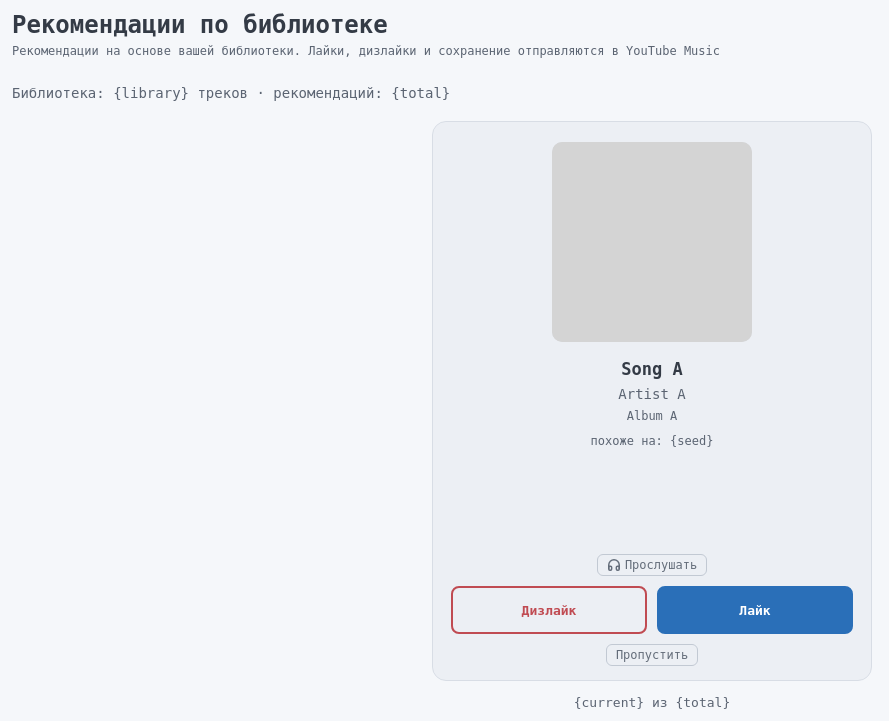
RecommendScreen › «Дизлайк»: POST /api/recommend/dislike; «Пропустить» — без запроса
Check: the text "Song A" is shown, box top-left (621, 359), bottom-right (683, 379)
Пропуск без обращения к аккаунту.
Click the button "Пропустить" at (652, 655), box top-left (606, 644), bottom-right (698, 666)
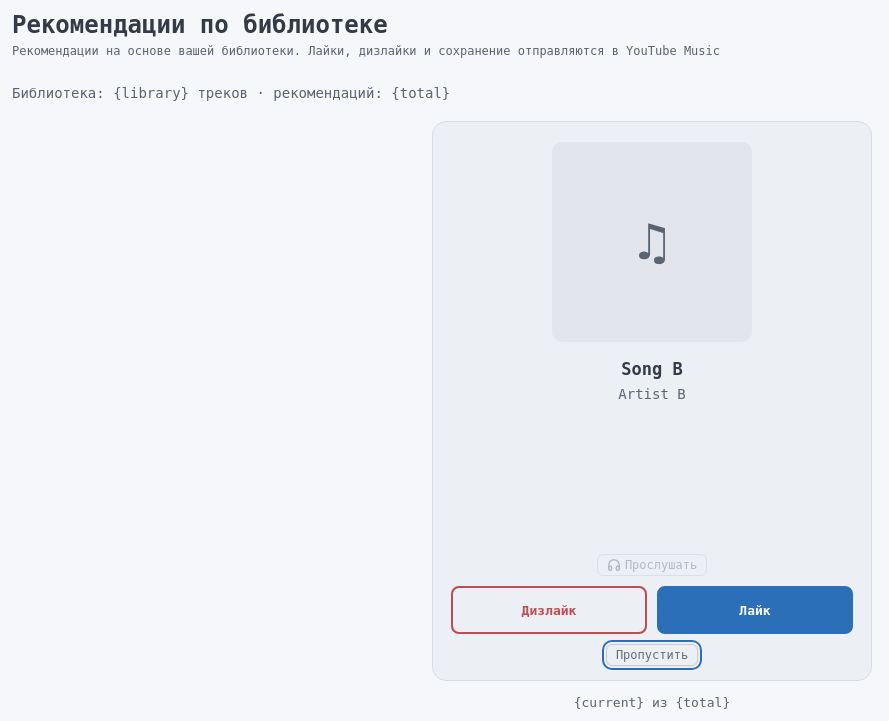
Check: the text "Song B" is shown, box top-left (621, 359), bottom-right (683, 379)
Click the button "Дизлайк" at (549, 610), box top-left (451, 586), bottom-right (647, 634)
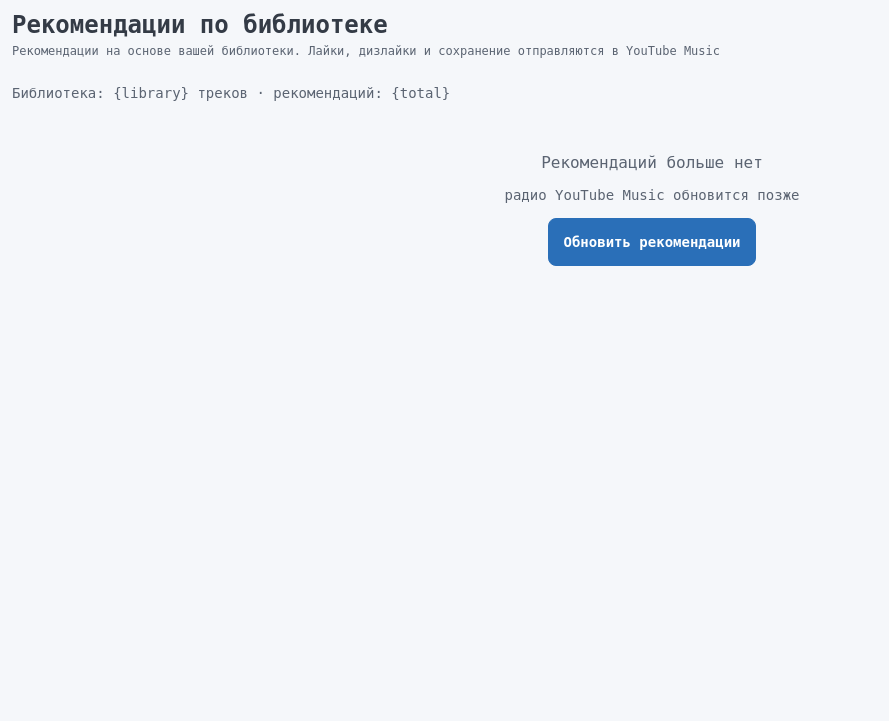
Check: the heading "Рекомендаций больше нет" is shown, box top-left (541, 153), bottom-right (763, 172)
